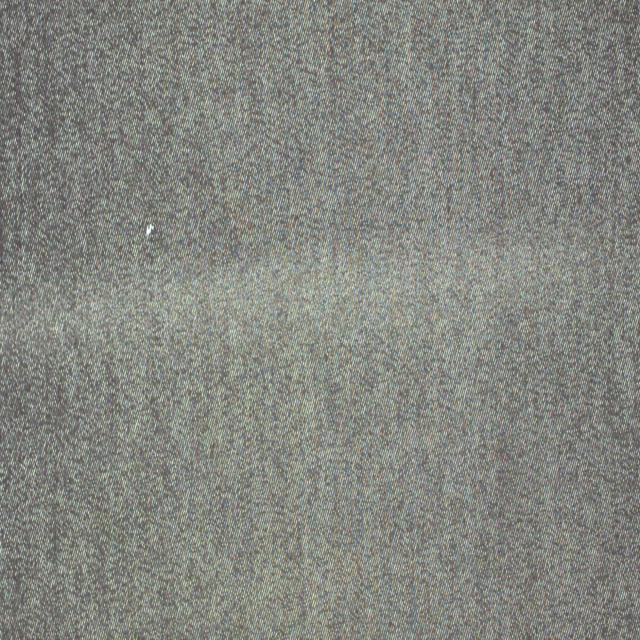Knot: (145, 223, 155, 236)
